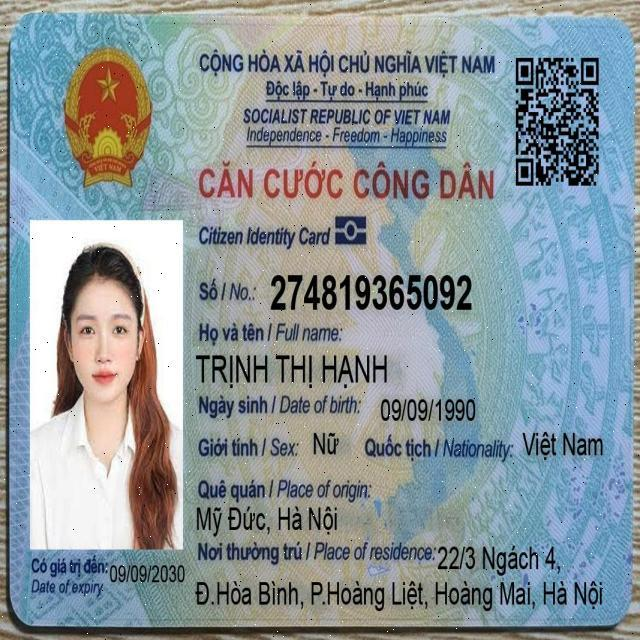current_place: (191, 576, 605, 616), (435, 538, 563, 576)
dob: (378, 392, 479, 428)
expire_date: (107, 560, 188, 589)
gender: (310, 426, 342, 461)
id: (266, 267, 476, 318)
name: (192, 349, 393, 393)
nationality: (519, 426, 607, 466)
origin_place: (192, 498, 343, 540)
qr: (509, 50, 607, 200)
